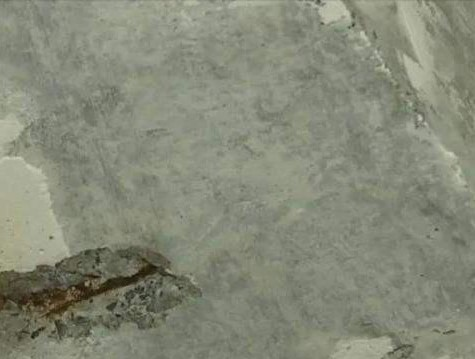Exposed reinforcement: (39, 263, 159, 317)
Spalling: (1, 244, 203, 344)
